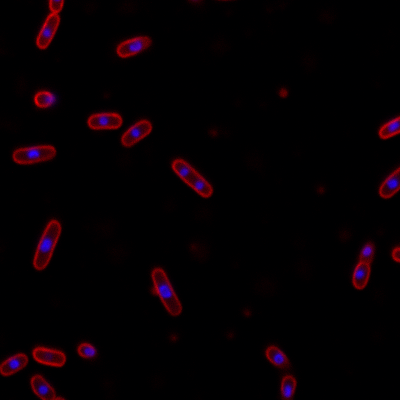CAM: (149, 266, 183, 317), (170, 158, 213, 198), (33, 218, 62, 271), (10, 143, 57, 165), (120, 118, 155, 147), (31, 345, 68, 367), (0, 351, 28, 379), (85, 109, 122, 130)
Oblique: (349, 240, 378, 291), (113, 35, 154, 58), (264, 343, 292, 369), (276, 374, 300, 400), (32, 89, 59, 110), (76, 341, 99, 359)
Vesicle: (204, 124, 219, 139), (314, 183, 328, 197), (277, 86, 289, 99), (239, 306, 252, 318), (224, 329, 236, 340), (169, 332, 180, 344)
